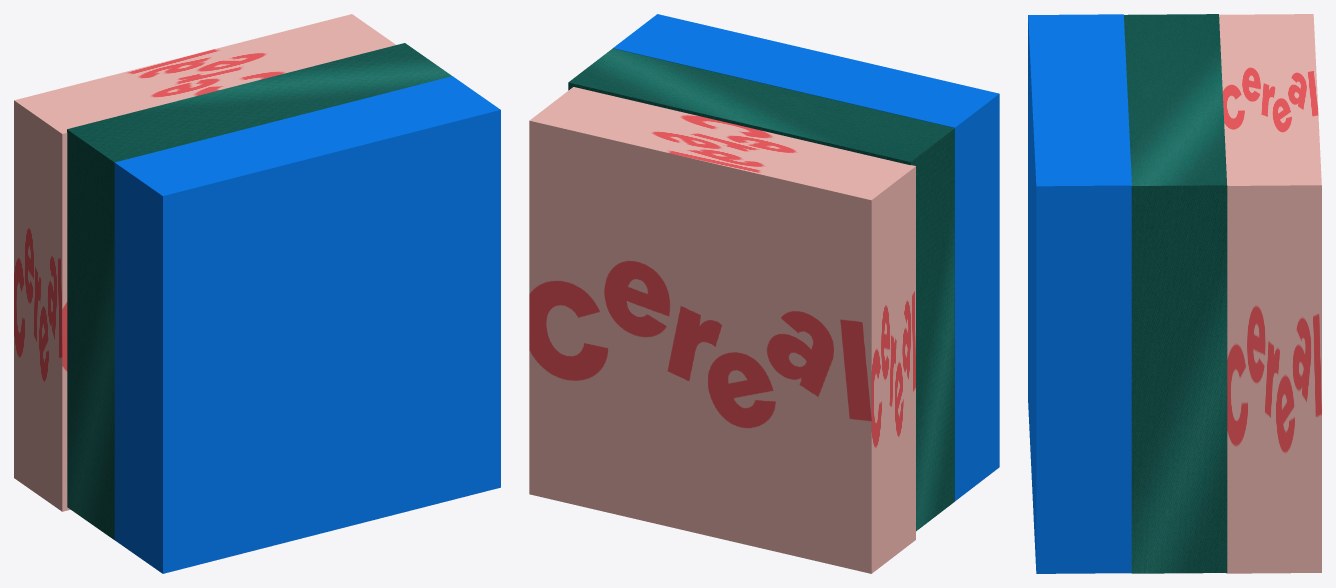
File: cajas.obj
3 renders of one model, left to right at view 1: azimuth 30°, elevation 25°; view 2: azimuth 150°, elevation 25°; view 3: azimuth 270°, elevation 25°, orthographic. The views are drawn at different scales.
Parts seen in each view (by area): view 1: Foodbox01; view 2: Foodbox01; view 3: Foodbox01.
Part boxes in pixels (<box>): Foodbox01: <box>14,14,500,573</box>; Foodbox01: <box>529,14,999,573</box>; Foodbox01: <box>1028,14,1321,573</box>.
Bounding box in the file's own units: 7.15 × 7.41 × 5.04.
3 materials, 3 textured.
